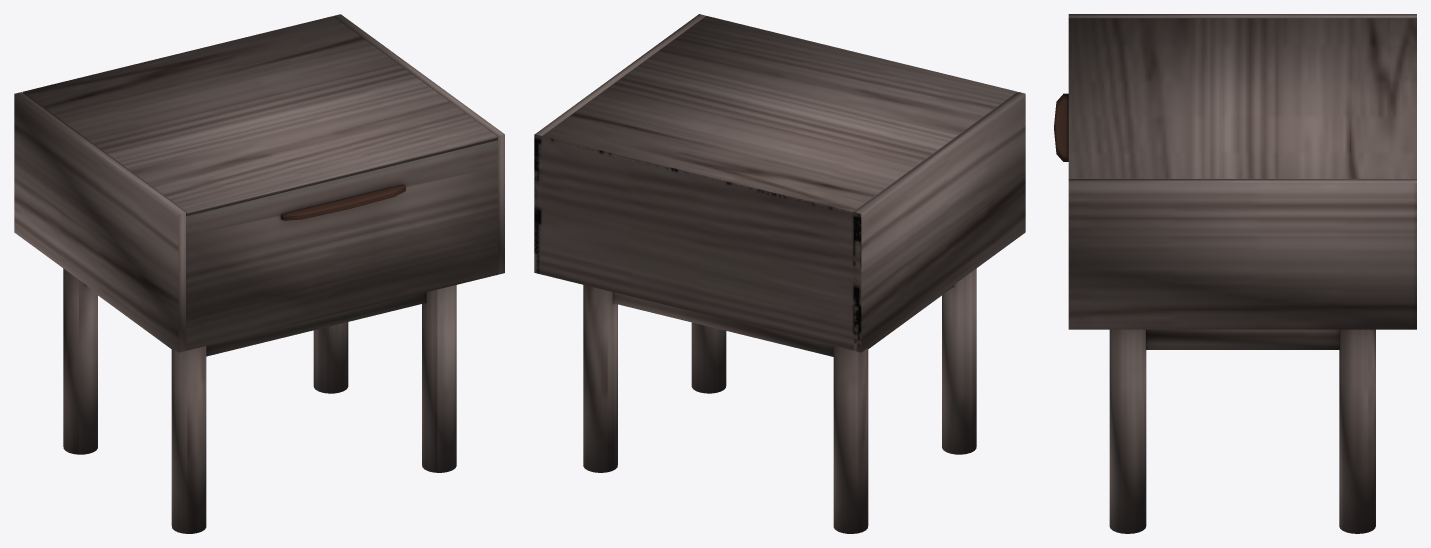
File: bd-shalebedside-smoke_baked.glb
3 renders of one model, left to right at view 1: azimuth 30°, elevation 25°; view 2: azimuth 150°, elevation 25°; view 3: azimuth 270°, elevation 25°, orthographic. The views are drawn at different scales.
Parts seen in each view (by area): view 1: Mesh_0.020; view 2: Mesh_0.020; view 3: Mesh_0.020.
Part boxes in pixels (bbox=[...]): Mesh_0.020: bbox=[14, 14, 504, 533]; Mesh_0.020: bbox=[534, 14, 1025, 533]; Mesh_0.020: bbox=[1054, 14, 1416, 533].
Size of the model in its own units: 52.3 by 52.31 by 47.4.
Materials: 1 (1 with a texture image).
